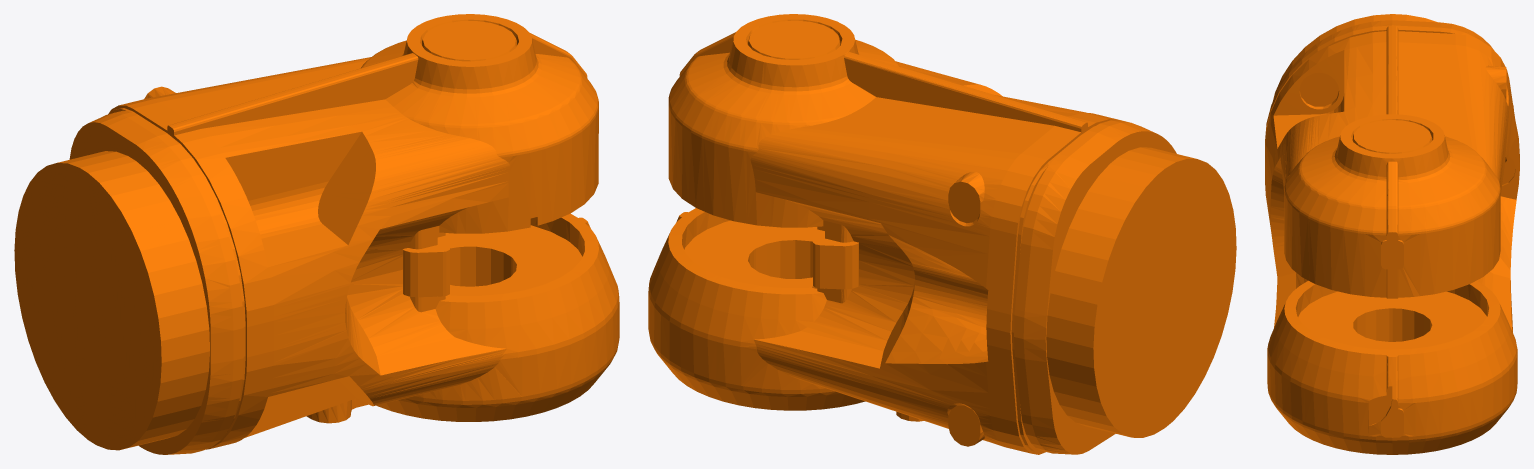
The picture shows the model from 3 angles, left to right: view 1: azimuth 30°, elevation 25°; view 2: azimuth 150°, elevation 25°; view 3: azimuth 270°, elevation 25°; orthographic projection. The views are drawn at different scales.
Visible parts, largest first — view 1: <STL_BINARY>.003; view 2: <STL_BINARY>.003; view 3: <STL_BINARY>.003.
Boxes of the visible parts, bbox=[...] form: <STL_BINARY>.003: bbox=[14, 14, 619, 454]; <STL_BINARY>.003: bbox=[648, 14, 1236, 454]; <STL_BINARY>.003: bbox=[1265, 14, 1519, 454].
Size of the model in its own units: 0.8563 by 0.5294 by 0.4409.
